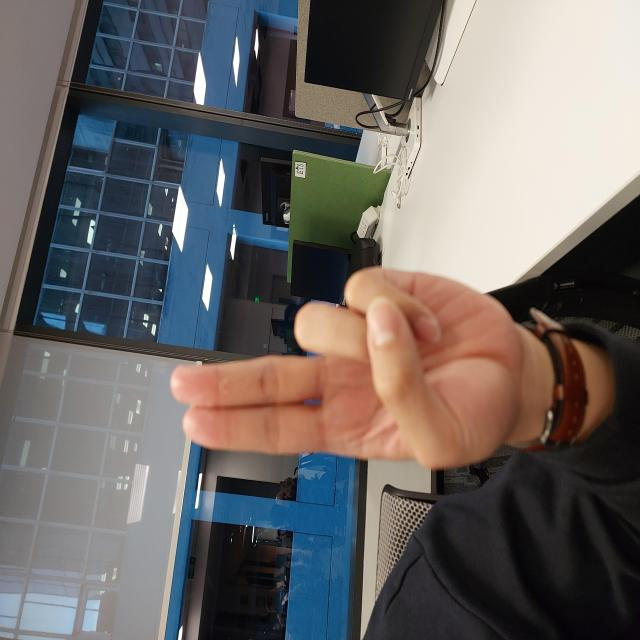U: (170, 174, 370, 519)
